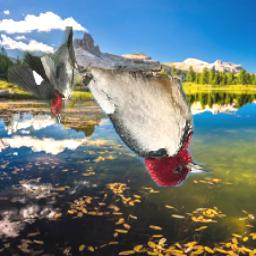Woodpecker: (57, 60, 213, 187), (8, 28, 92, 124)
